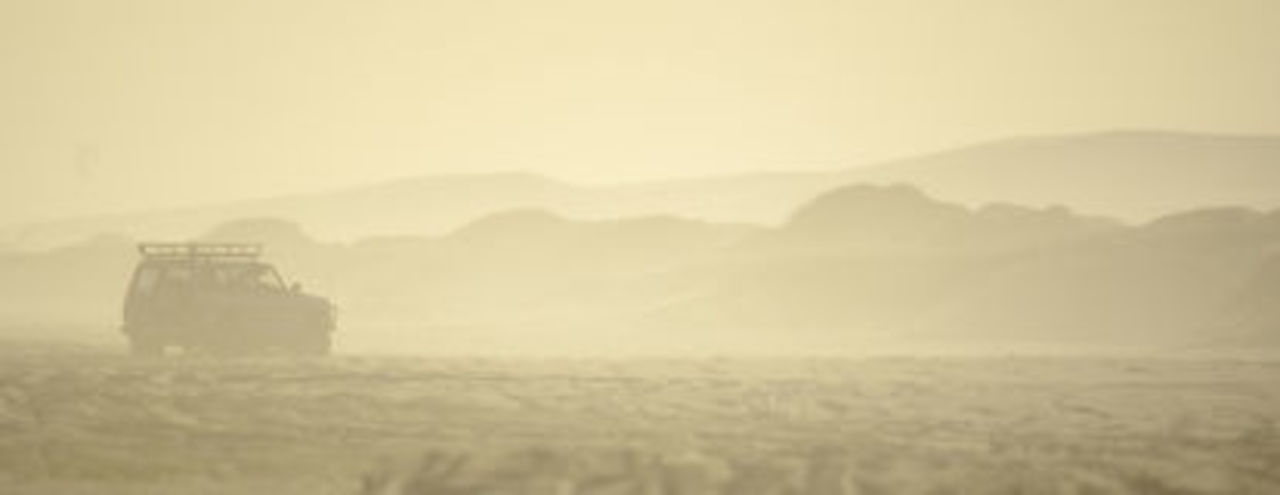car: (119, 239, 336, 358)
